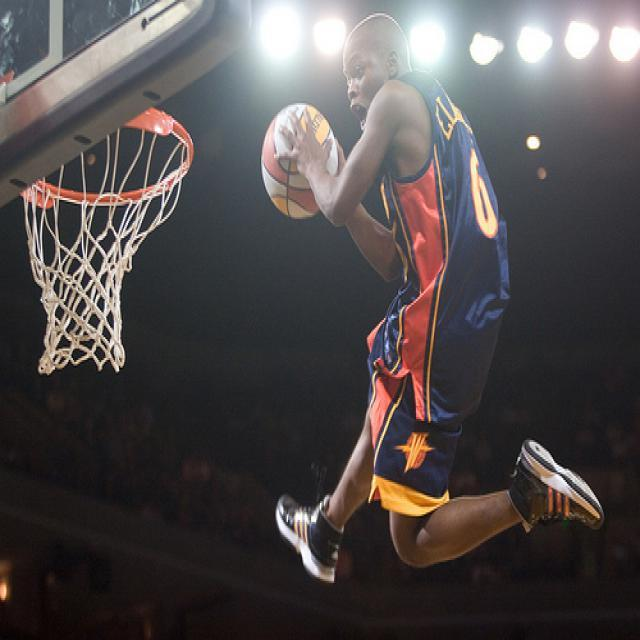basketball: (260, 97, 336, 215)
rim: (24, 104, 194, 208)
